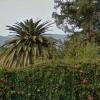Tree: (8, 14, 73, 83)
